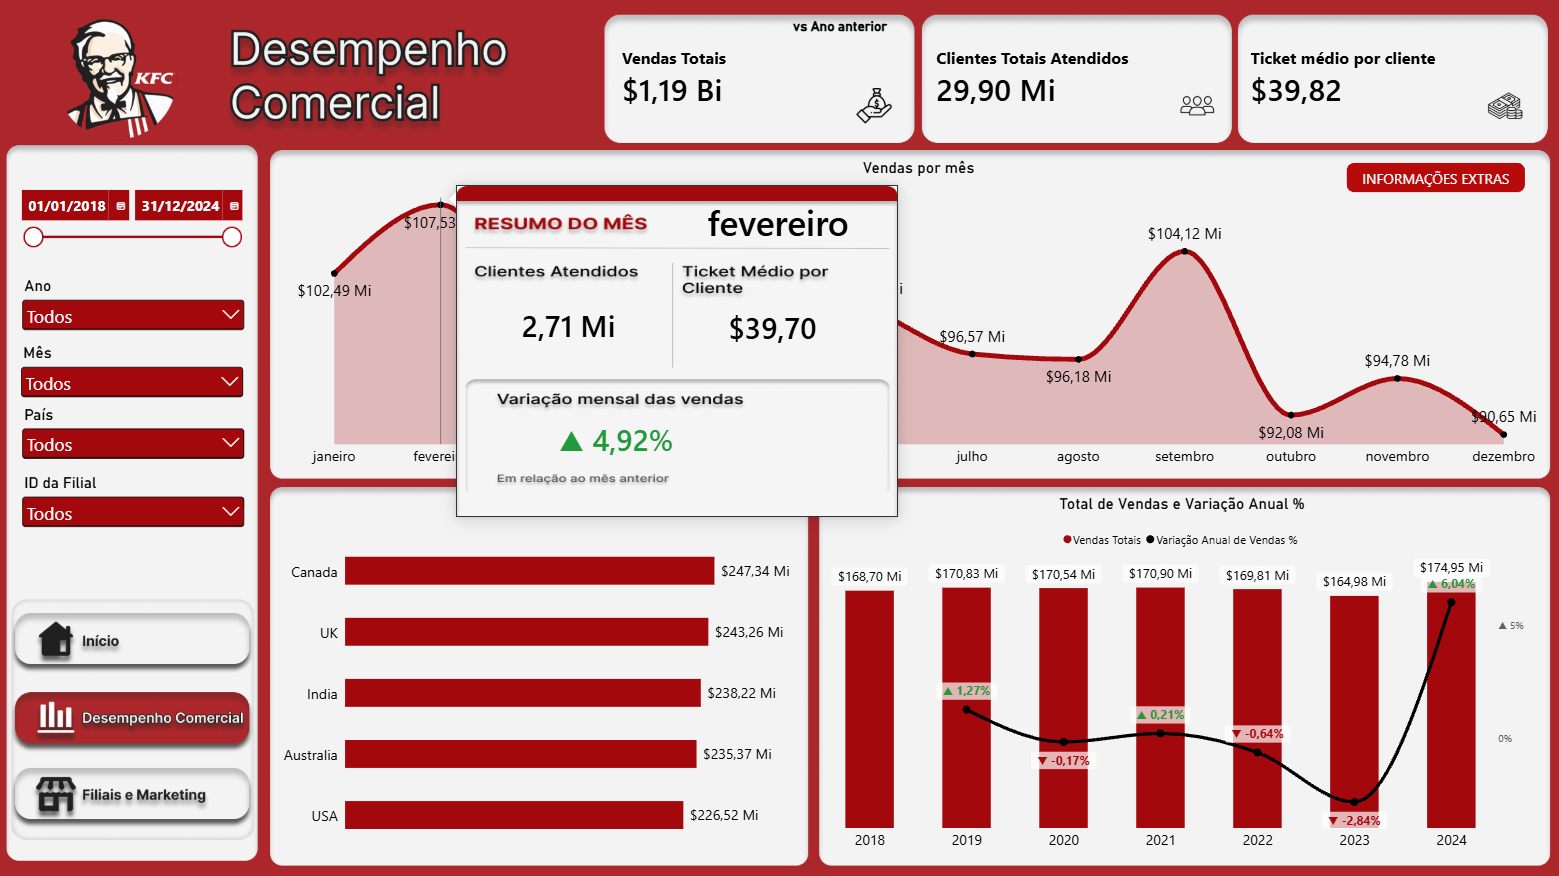

What the dashboard file says about the page in this screenshot:
{"tool":"powerbi","page":{"name":"Desempenho Comercial","canvas":[1920,1080],"ordinal":1},"visuals":[{"type":"lineChart","title":"Vendas  por mês","fields":{"Category":["dCalendario.Mês"],"Y":["Medidas.Vendas Totais"]},"box":[345,180.9,1573.3,412.8],"z":0},{"type":"cardVisual","fields":{"Data":["Medidas.Vendas Totais","Medidas.Clientes Totais","Medidas.Receita por Cliente"]},"box":[750.7,20.6,1150.2,152.8],"z":1000},{"type":"barChart","title":"Vendas Totais por País","fields":{"Category":["Conjunto de dados de vendas globais do KFC (2018–2024).País","Conjunto de dados de vendas globais do KFC (2018–2024).ID da Filial"],"Y":["Medidas.Vendas Totais"]},"box":[327.6,593.5,665.5,474.5],"z":2000},{"type":"lineStackedColumnComboChart","title":"Total de Vendas e Variação Anual % ","fields":{"Category":["dCalendario.Ano"],"Y":["Medidas.Vendas Totais"],"Y2":["Medidas.Variação Anual de Vendas %"]},"box":[1006.3,593.5,896.1,473],"z":3000},{"type":"cardVisual","title":"vs Ano anterior","fields":{"Data":["Medidas.Vendas Ano Atual vs Ano Anterior"]},"box":[950.5,23.5,168.9,88.1],"z":4000},{"type":"image","box":[1022.4,108.7,108.7,44.1],"z":5000},{"type":"image","box":[1814.2,108.7,76.4,44.1],"z":6000},{"type":"image","box":[1435.2,108.7,76.4,44.1],"z":7000},{"type":"actionButton","box":[23.3,758,280.9,56.5],"z":8000},{"type":"actionButton","box":[19.9,949.2,284.3,58.2],"z":9000},{"type":"slicer","fields":{"Values":["Conjunto de dados de vendas globais do KFC (2018–2024).ID da Filial"]},"box":[24,581.1,283.5,85.2],"z":10000},{"type":"slicer","fields":{"Values":["Conjunto de dados de vendas globais do KFC (2018–2024).País"]},"box":[24,497.7,283.5,83.7],"z":11000},{"type":"slicer","fields":{"Values":["dCalendario.Ano"]},"box":[24,339.3,283.5,82.3],"z":12000},{"type":"slicer","fields":{"Values":["dCalendario.Data"]},"box":[20.6,227.7,283.5,104.3],"z":13000},{"type":"slicer","fields":{"Values":["dCalendario.Mês Abreviado"]},"box":[22.6,421.3,283.5,82.3],"z":14000},{"type":"actionButton","title":"Botão - INFO","box":[1656.5,200.4,219.3,36.3],"z":17000}]}

Visuals, with their boxes in screenshot pixels (x1, y1, x2, y2), scaled from the page's 1920x1080 canvas onto the 1559x876 screenshot:
"Vendas  por mês" lineChart: 280, 147, 1558, 482
cardVisual - Medidas.Vendas Totais x Medidas.Clientes Totais: 610, 17, 1543, 141
"Vendas Totais por País" barChart: 266, 481, 806, 866
"Total de Vendas e Variação Anual % " lineStackedColumnComboChart: 817, 481, 1545, 865
"vs Ano anterior" cardVisual: 772, 19, 909, 91
image: 830, 88, 918, 124
image: 1473, 88, 1535, 124
image: 1165, 88, 1227, 124
actionButton: 19, 615, 247, 661
actionButton: 16, 770, 247, 817
slicer - Conjunto de dados de vendas globais do KFC (2018–2024).ID da Filial: 19, 471, 250, 540
slicer - Conjunto de dados de vendas globais do KFC (2018–2024).País: 19, 404, 250, 472
slicer - dCalendario.Ano: 19, 275, 250, 342
slicer - dCalendario.Data: 17, 185, 247, 269
slicer - dCalendario.Mês Abreviado: 18, 342, 249, 408
"Botão - INFO" actionButton: 1345, 163, 1523, 192
